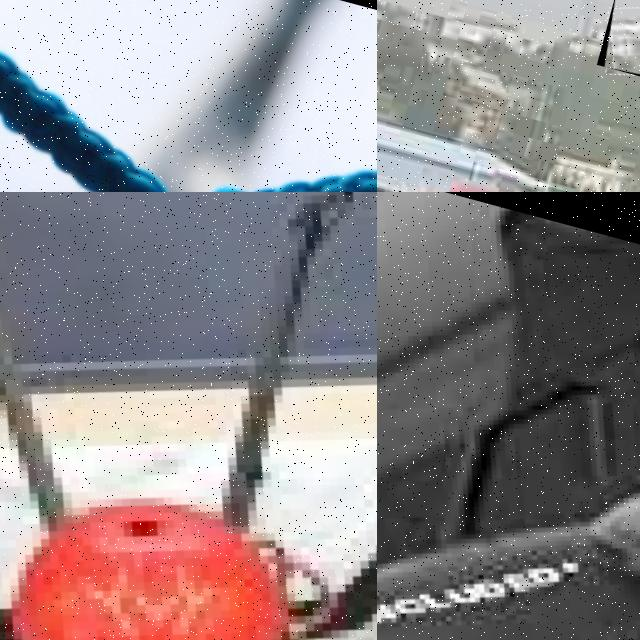0: (596, 0, 640, 97)
drone: (0, 192, 377, 640), (377, 192, 640, 640), (0, 0, 377, 192)
